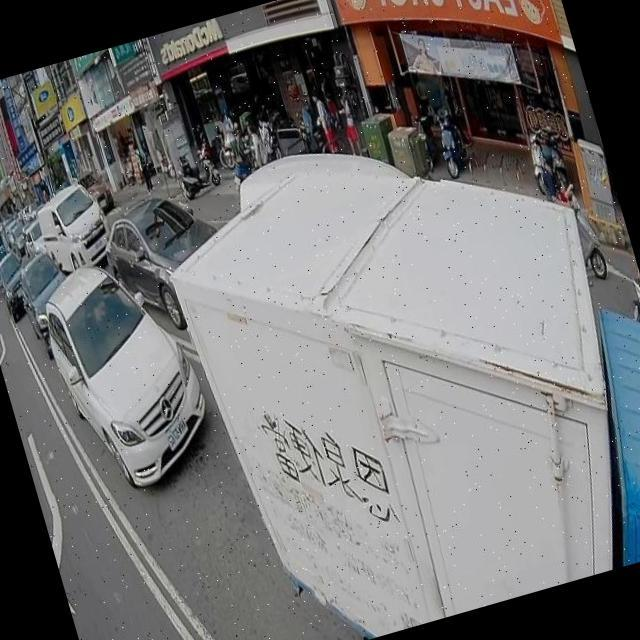person: (530, 140, 574, 206), (437, 72, 474, 150), (619, 218, 640, 335), (310, 90, 343, 154), (334, 88, 364, 157), (318, 74, 344, 134), (220, 108, 242, 162), (244, 118, 268, 167), (257, 115, 282, 162), (134, 144, 154, 190)
